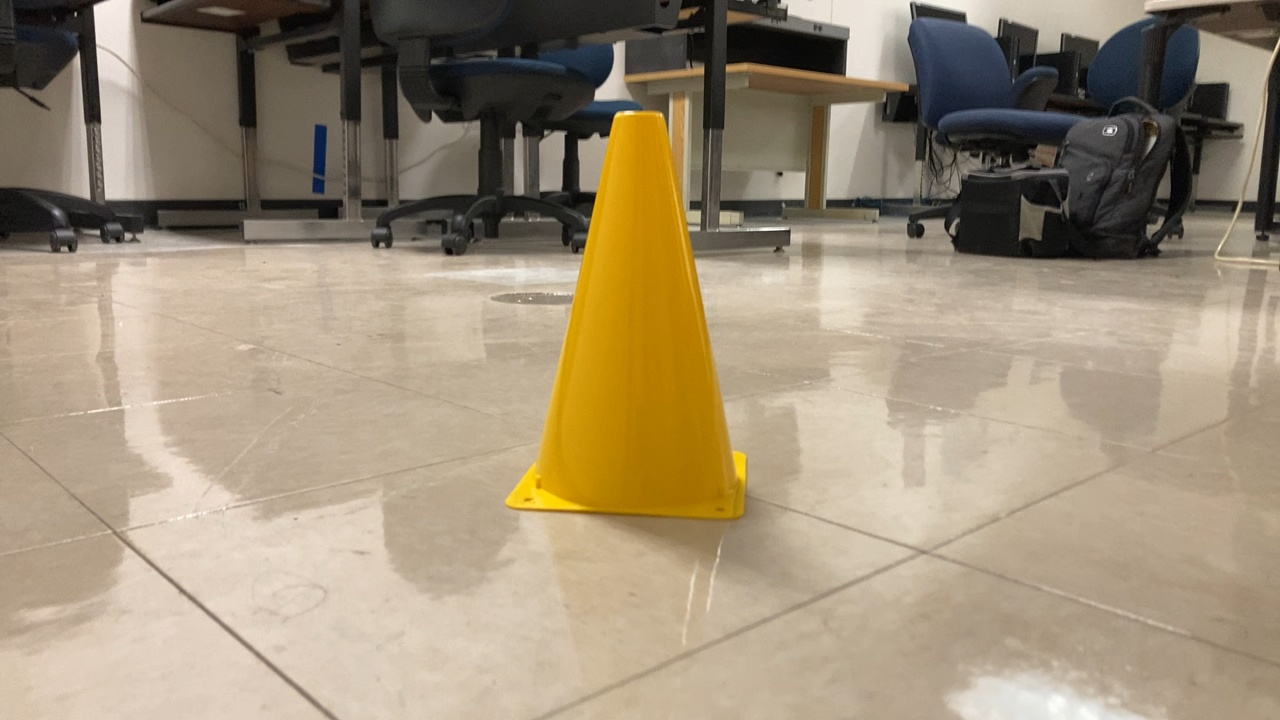yellow_cone: (493, 89, 762, 528)
